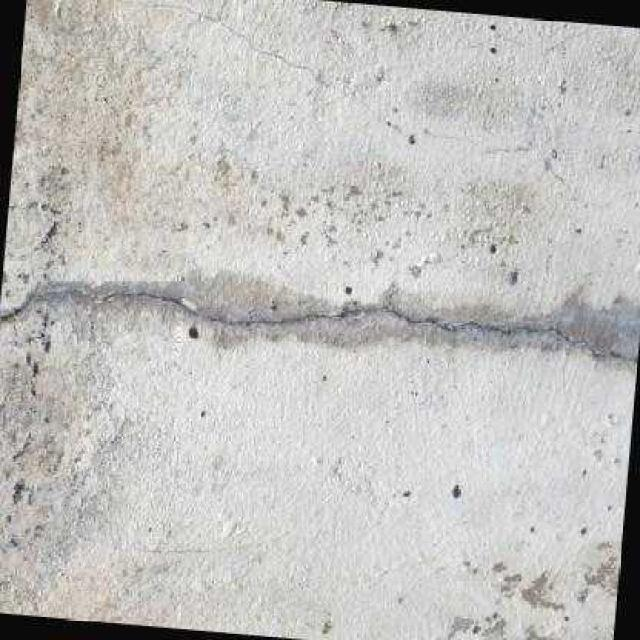D00: (0, 284, 638, 363)
